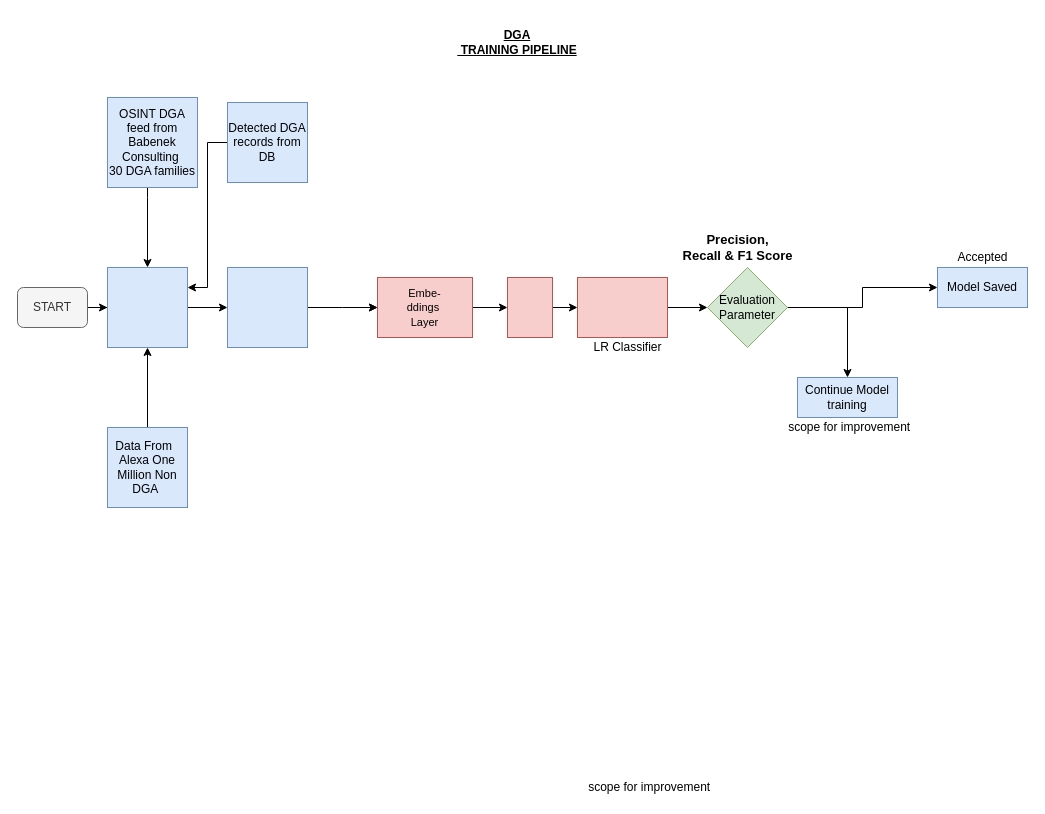
Some shapes in this 1045 by 814 pixel diagram are drawn without their labels. The shapes that lost their labels are listed below. From the top down, each one's box as (x1, y1, x2, y2) in pixels, then its label:
(106, 266, 188, 348): Infromation Extraction
(226, 266, 308, 348): preprocessing if the need be
(506, 276, 552, 338): LSTM
(576, 276, 668, 338): Logistic Regression
